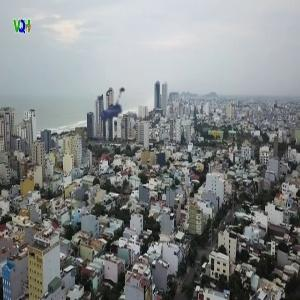drone: (73, 71, 146, 144)
